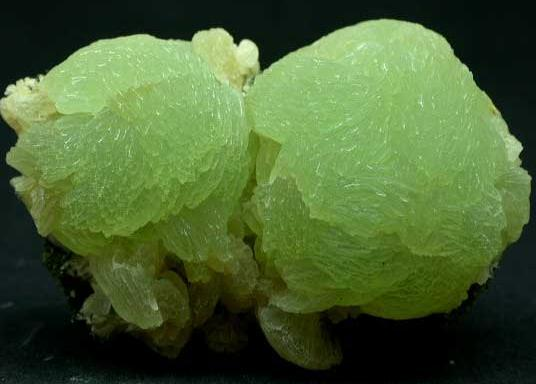prehnite: (0, 21, 531, 368)
